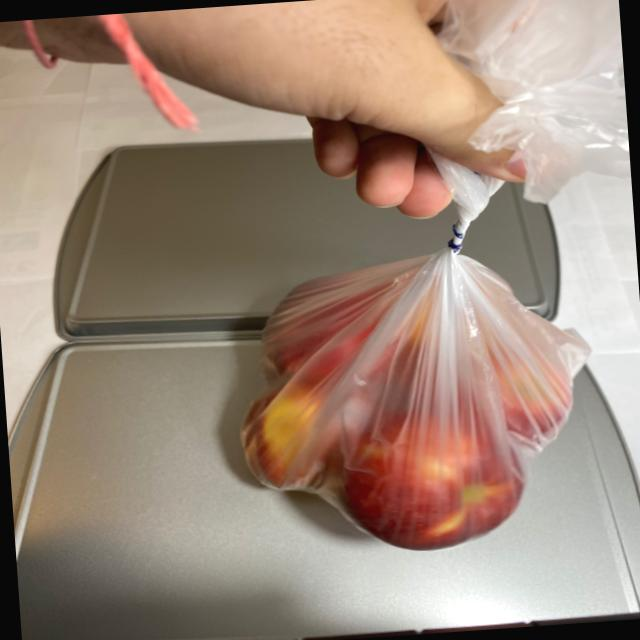apple: (224, 252, 589, 566)
